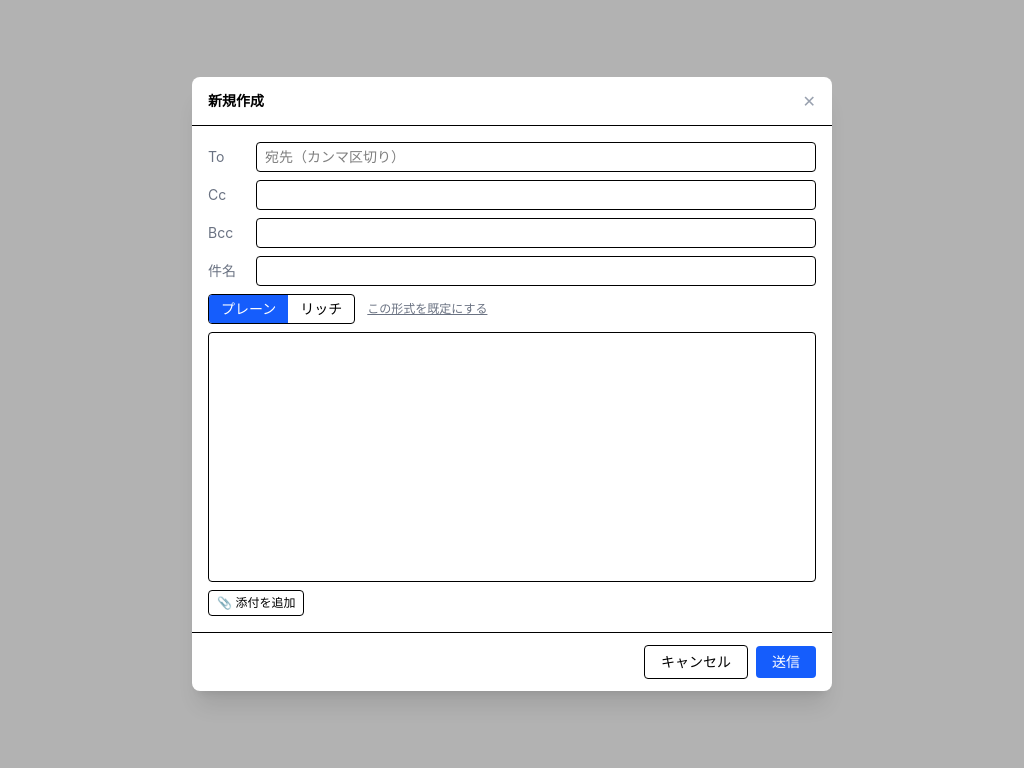
Test case: ComposeModal › switches to rich format and renders the rich editor toolbar
Step 1. Click the button "リッチ" → (321,309), box [288,295,354,323]
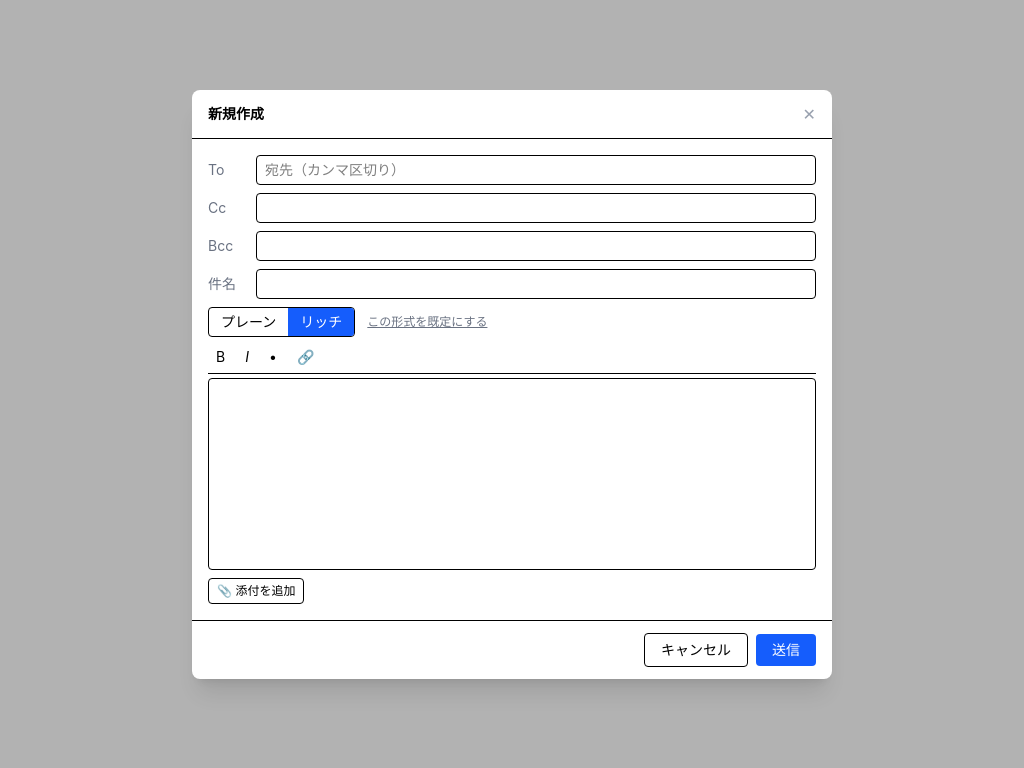
Result: the button named "太字" is shown at [208,344,233,368]
